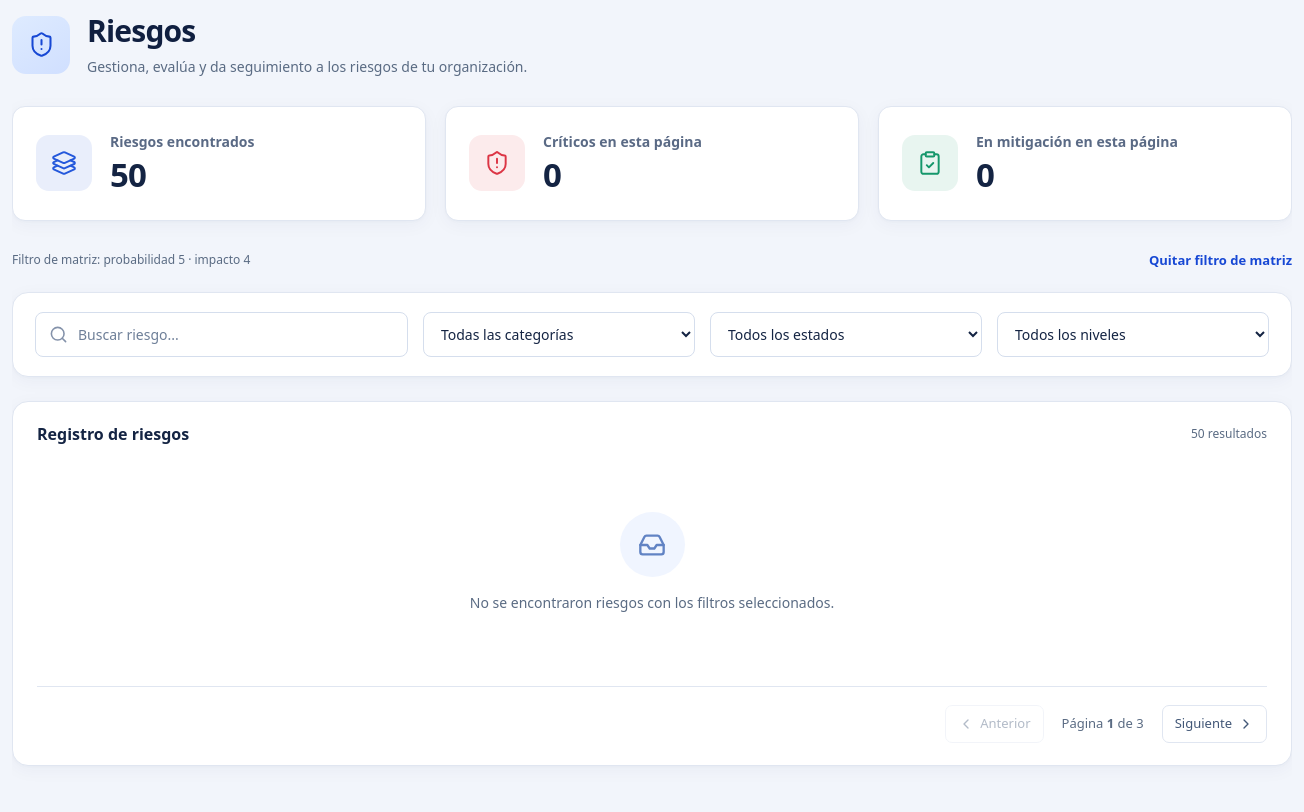
Test: clearing the visible matrix filter removes the axes from both query and URL
This screenshot has width=1304, height=812.
Click the button "Quitar filtro de matriz": (1220, 260) [1149, 247, 1292, 274]
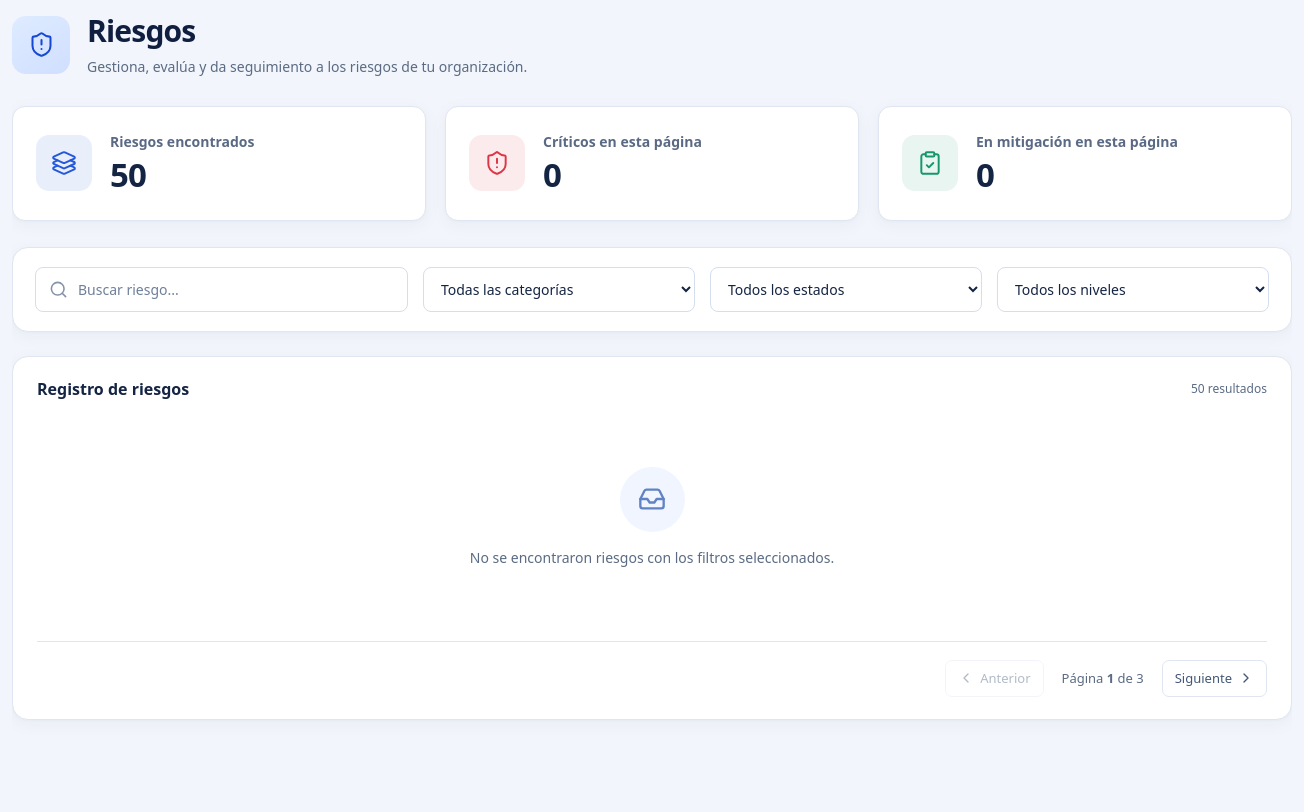
expect the text "Filtro de matriz:" is gone: met
